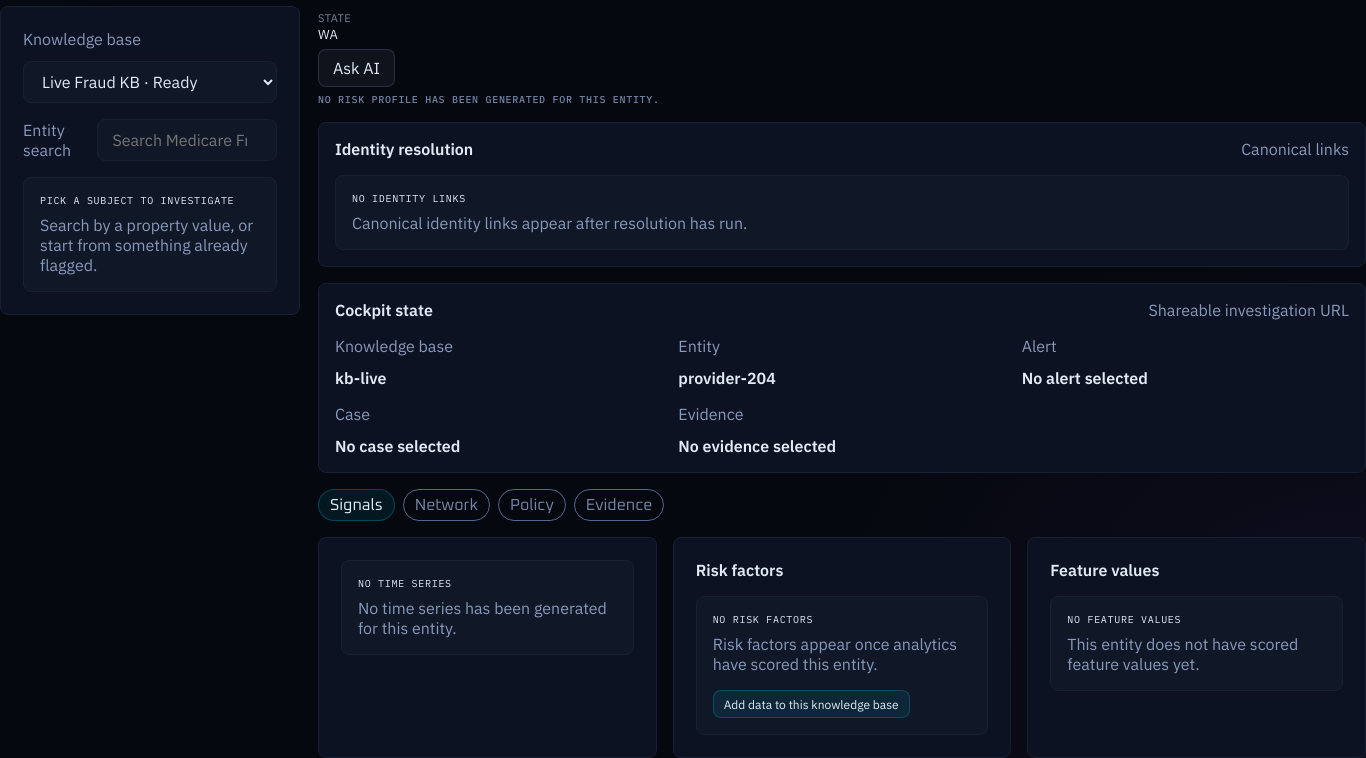
Test: InvestigationWorkbenchPage › shows the policy panel empty state under the Policy tab when no items reference the entity
(page scrolled)
Click the tab "Policy". click: (532, 505)
box: [498,489,566,521]
(page scrolled)
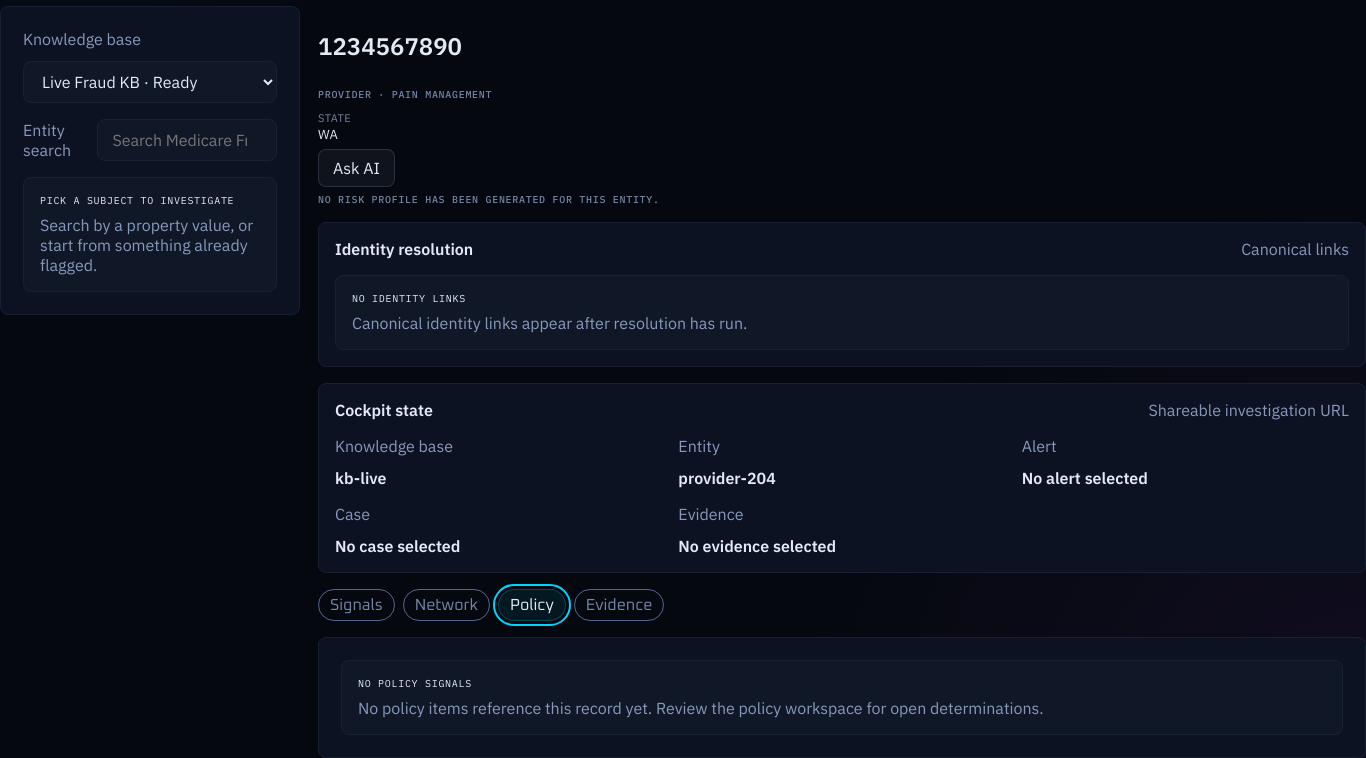
Now the text "No policy signals" is shown, box [358,677,472,690]
